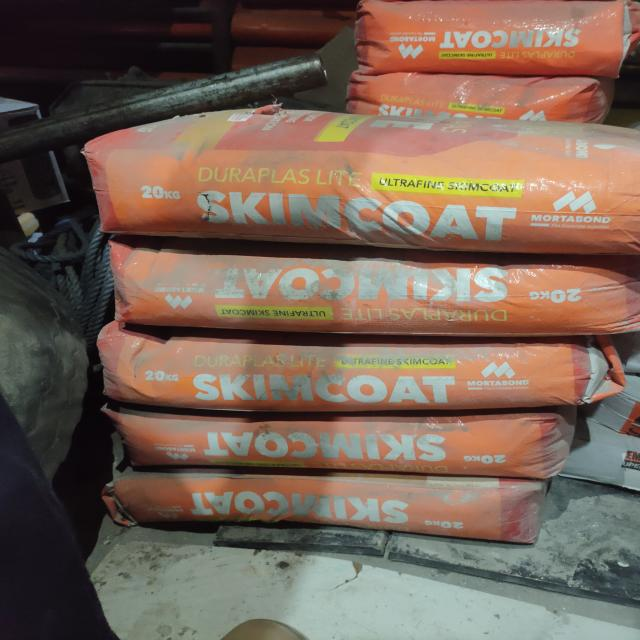Skim coat: (101, 119, 632, 248), (115, 247, 613, 327), (103, 328, 601, 408), (125, 408, 565, 475), (113, 467, 544, 531), (349, 10, 635, 71), (350, 72, 613, 118)
